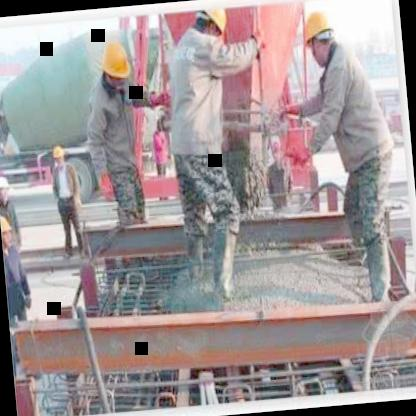helmet: (298, 3, 339, 68), (98, 34, 134, 98), (187, 2, 235, 48), (0, 213, 16, 255), (0, 170, 11, 211), (51, 142, 65, 170)
